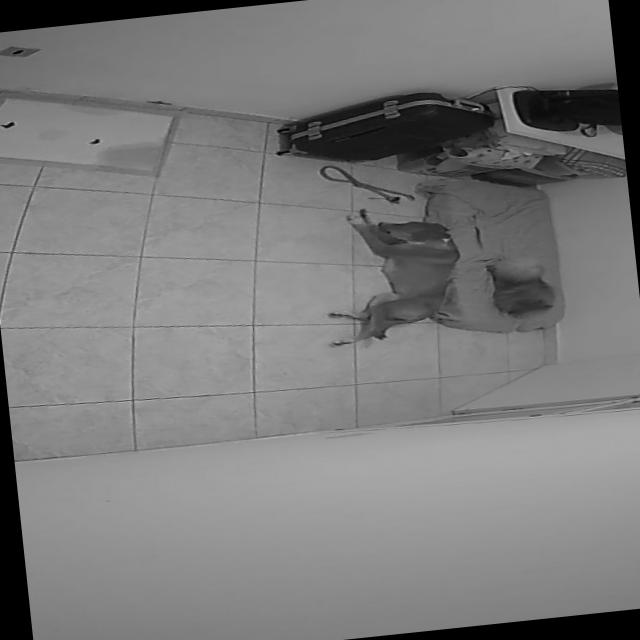laying down: (309, 196, 475, 352), (478, 250, 560, 322)
